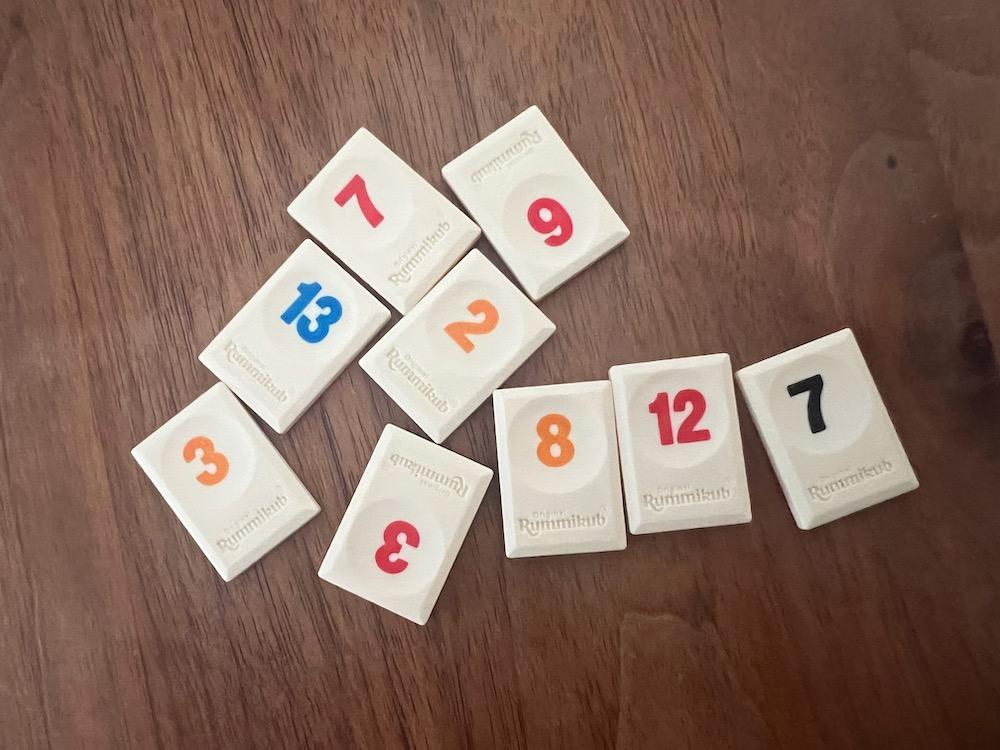black_7: (736, 330, 918, 529)
blue_13: (201, 240, 391, 434)
orange_2: (359, 250, 555, 443)
orange_3: (133, 383, 320, 580)
orange_8: (495, 381, 627, 557)
red_12: (609, 354, 752, 533)
red_3: (318, 424, 492, 625)
red_6: (443, 105, 629, 301)
red_7: (287, 129, 480, 314)
